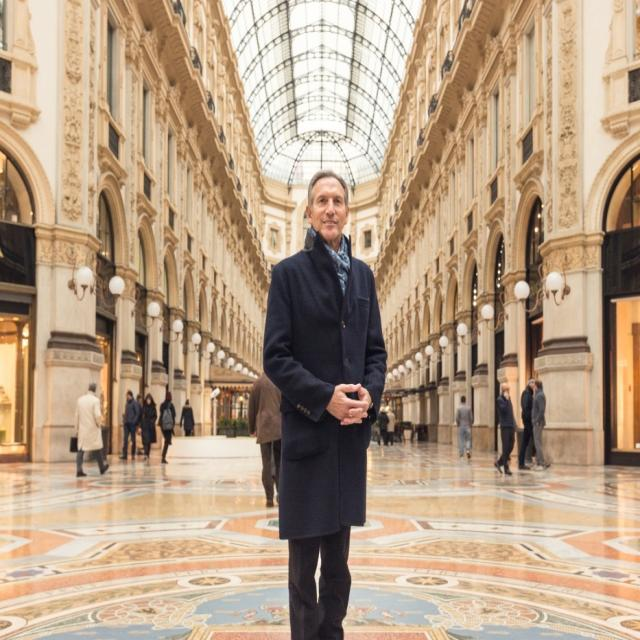body: (258, 164, 392, 639), (246, 370, 283, 509), (68, 380, 110, 478), (492, 381, 520, 476), (529, 378, 549, 471), (517, 376, 536, 470), (118, 388, 142, 461), (156, 392, 178, 464), (452, 394, 475, 461), (139, 393, 158, 461), (373, 405, 398, 452), (178, 398, 196, 437), (134, 389, 146, 407)
